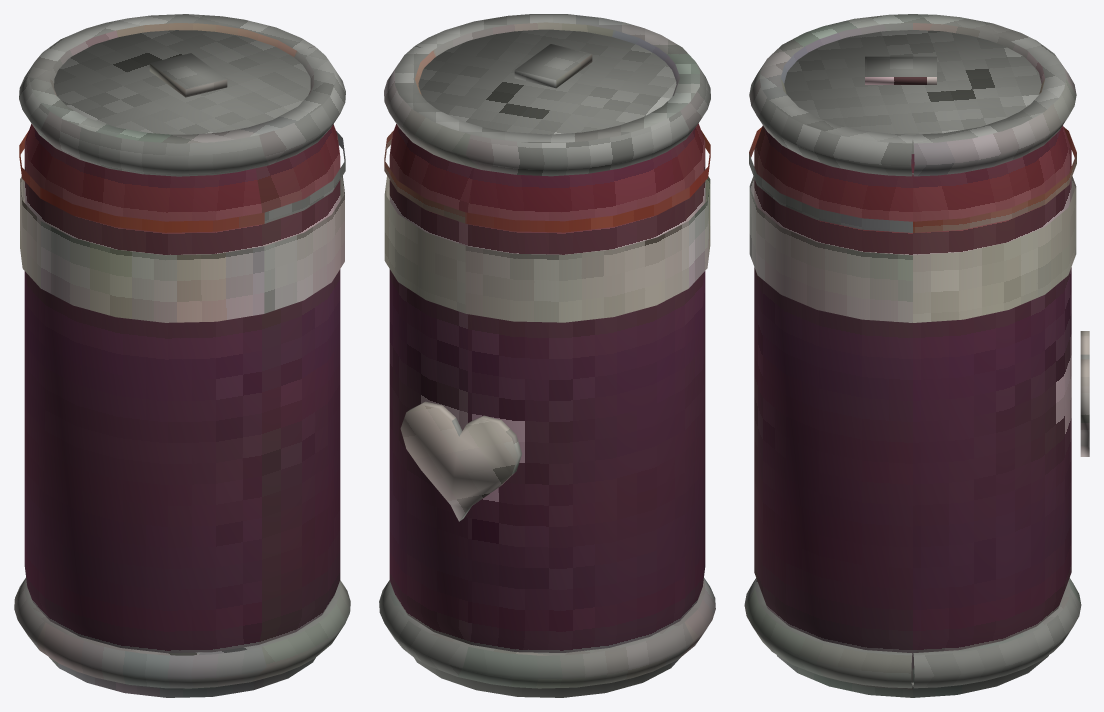
File: can_shiruko.glb
3 renders of one model, left to right at view 1: azimuth 30°, elevation 25°; view 2: azimuth 150°, elevation 25°; view 3: azimuth 270°, elevation 25°, orthographic.
Visible parts, largest first — view 1: prop_can_shiruko_felt; view 2: prop_can_shiruko_felt; view 3: prop_can_shiruko_felt.
Part boxes in pixels (x1,y1,x2,y2): prop_can_shiruko_felt: (14,14,350,697); prop_can_shiruko_felt: (379,14,715,697); prop_can_shiruko_felt: (744,14,1089,697).
Size of the model in its own units: 0.0844 by 0.1579 by 0.0865.
1 material, 1 textured.
